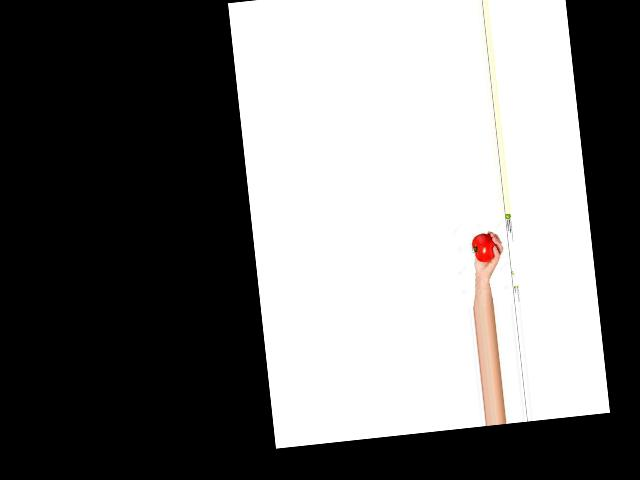tomato: (471, 232, 497, 264)
